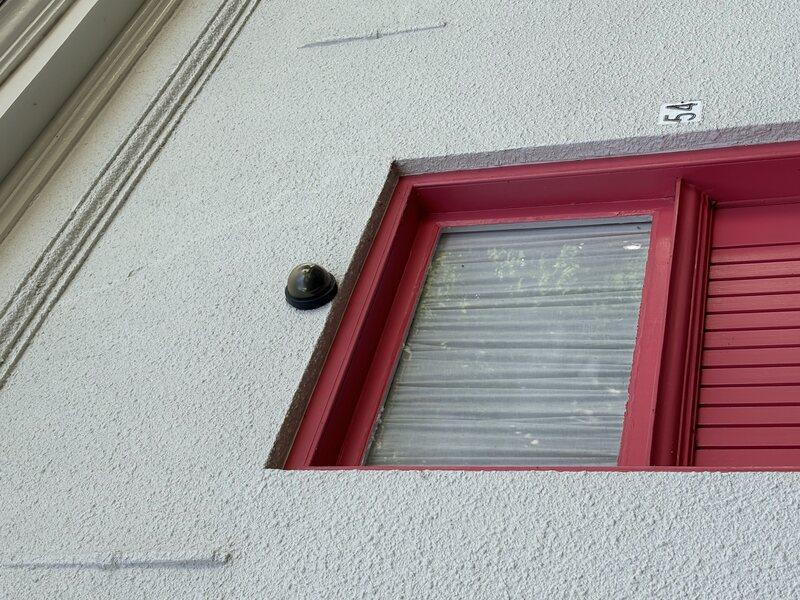dome: (286, 276, 344, 339)
